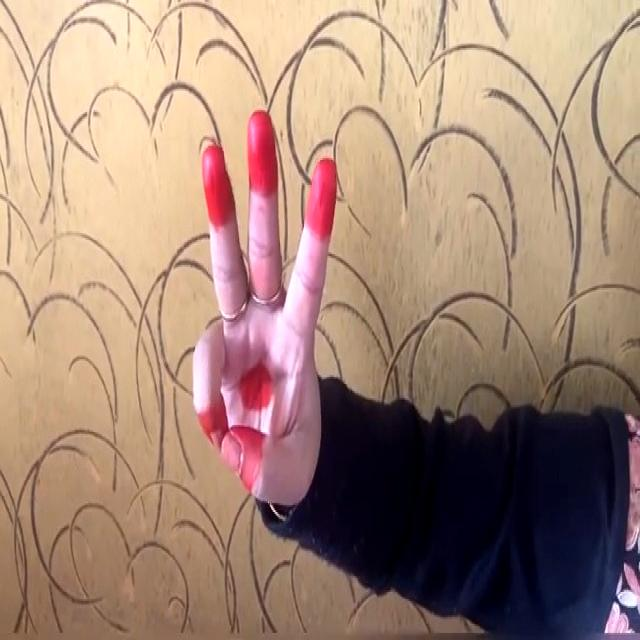Trishula: (171, 56, 359, 535)
